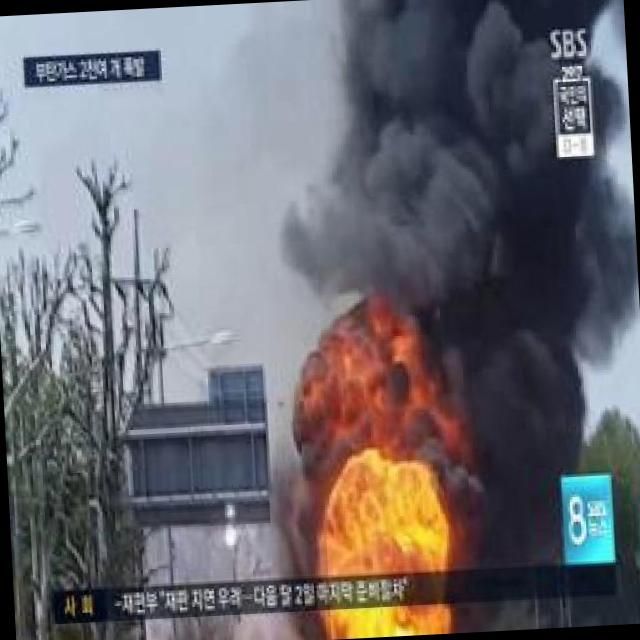Fire: (286, 304, 446, 584), (317, 608, 456, 640)
Smoke: (267, 0, 562, 321), (468, 309, 592, 573)
